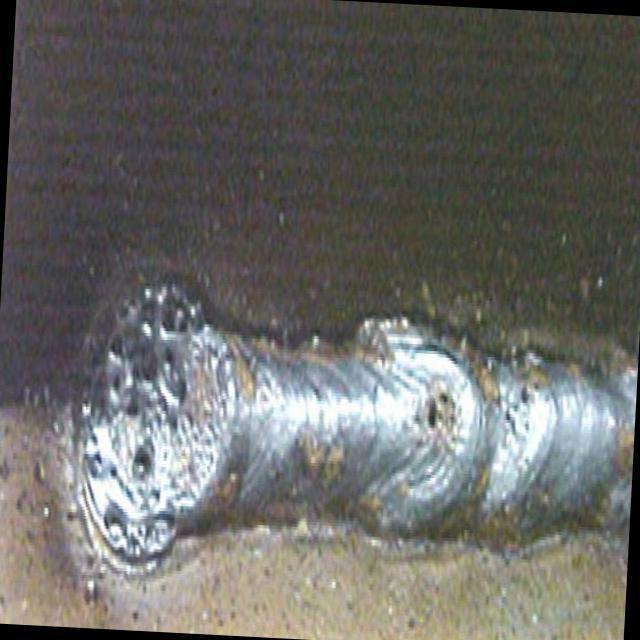defect: (103, 288, 203, 483), (496, 367, 537, 442), (423, 384, 451, 443)
